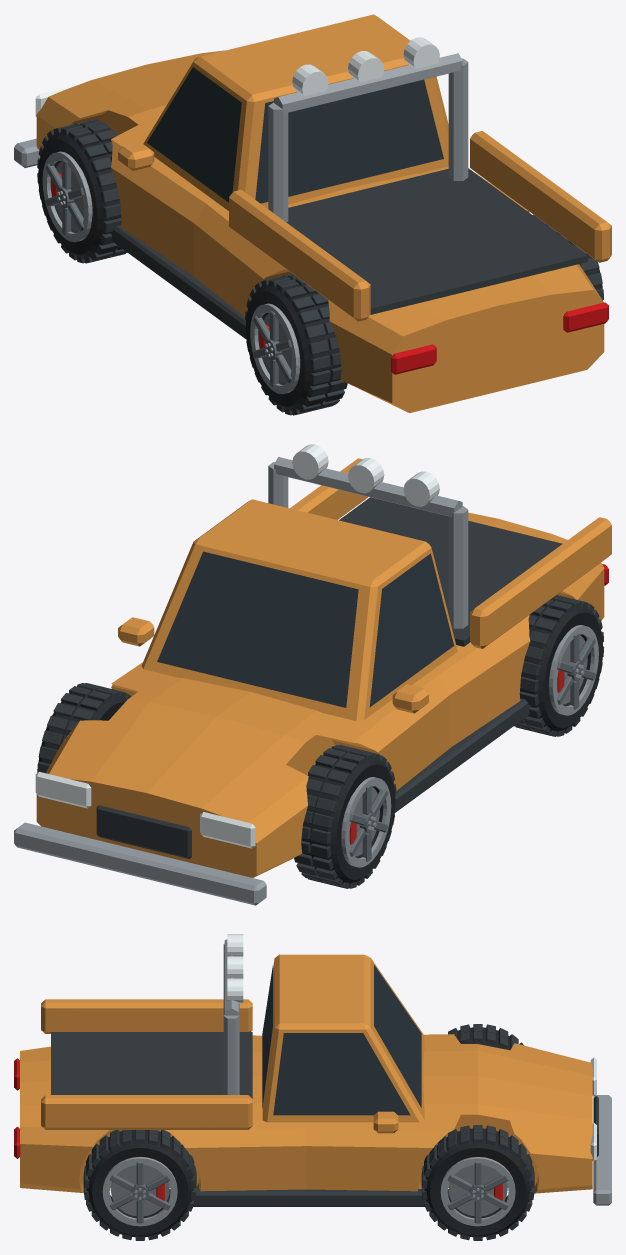
File: car_pickup.glb
3 renders of one model, top to bottom at view 1: azimuth 30°, elevation 25°; view 2: azimuth 150°, elevation 25°; view 3: azimuth 270°, elevation 25°, orthographic. The views are drawn at different scales.
Visible parts, largest first — view 1: Body, WheelMesh.002, WheelMesh, WheelMesh.003; view 2: Body, WheelMesh, WheelMesh.002, WheelMesh.001; view 3: Body, WheelMesh.001, WheelMesh.003, WheelMesh.
Part boxes in pixels (bbox=[...]): Body: bbox=[14, 14, 611, 413]; WheelMesh.002: bbox=[245, 273, 347, 415]; WheelMesh: bbox=[37, 119, 127, 263]; WheelMesh.003: bbox=[533, 214, 603, 300]; Body: bbox=[14, 444, 611, 905]; WheelMesh: bbox=[294, 745, 396, 888]; WheelMesh.002: bbox=[514, 595, 604, 736]; WheelMesh.001: bbox=[37, 683, 131, 773]; Body: bbox=[14, 934, 611, 1206]; WheelMesh.001: bbox=[421, 1125, 534, 1240]; WheelMesh.003: bbox=[83, 1130, 196, 1240]; WheelMesh: bbox=[448, 1024, 523, 1050].
Bounding box in the file's own units: 2.36 × 2 × 4.8.
